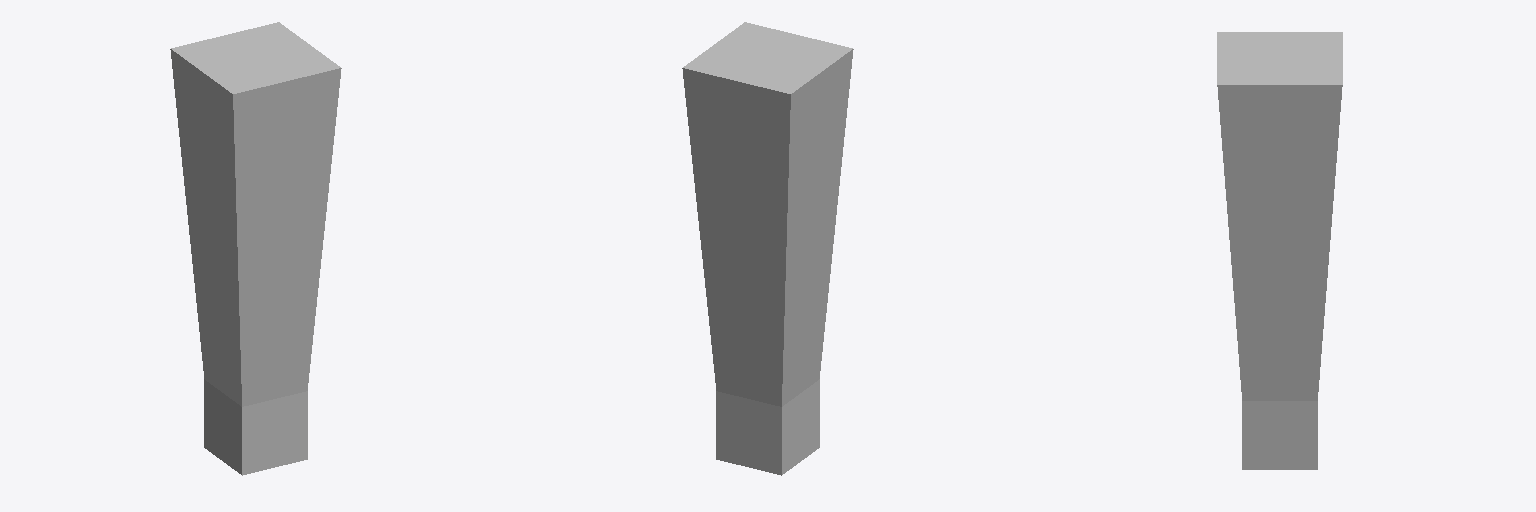
Rendered from Building1.obj.
3 views of the same model, side by side, from view 1: azimuth 30°, elevation 25°; view 2: azimuth 150°, elevation 25°; view 3: azimuth 270°, elevation 25° (orthographic).
Parts seen in each view (by area): view 1: Cube; view 2: Cube; view 3: Cube.
Boxes of the visible parts, x1,y1,x2,y2 form: Cube: [170, 22, 341, 475]; Cube: [682, 22, 853, 475]; Cube: [1217, 32, 1342, 469].
Bounding box in the file's own units: 3.44 × 11.97 × 3.44.